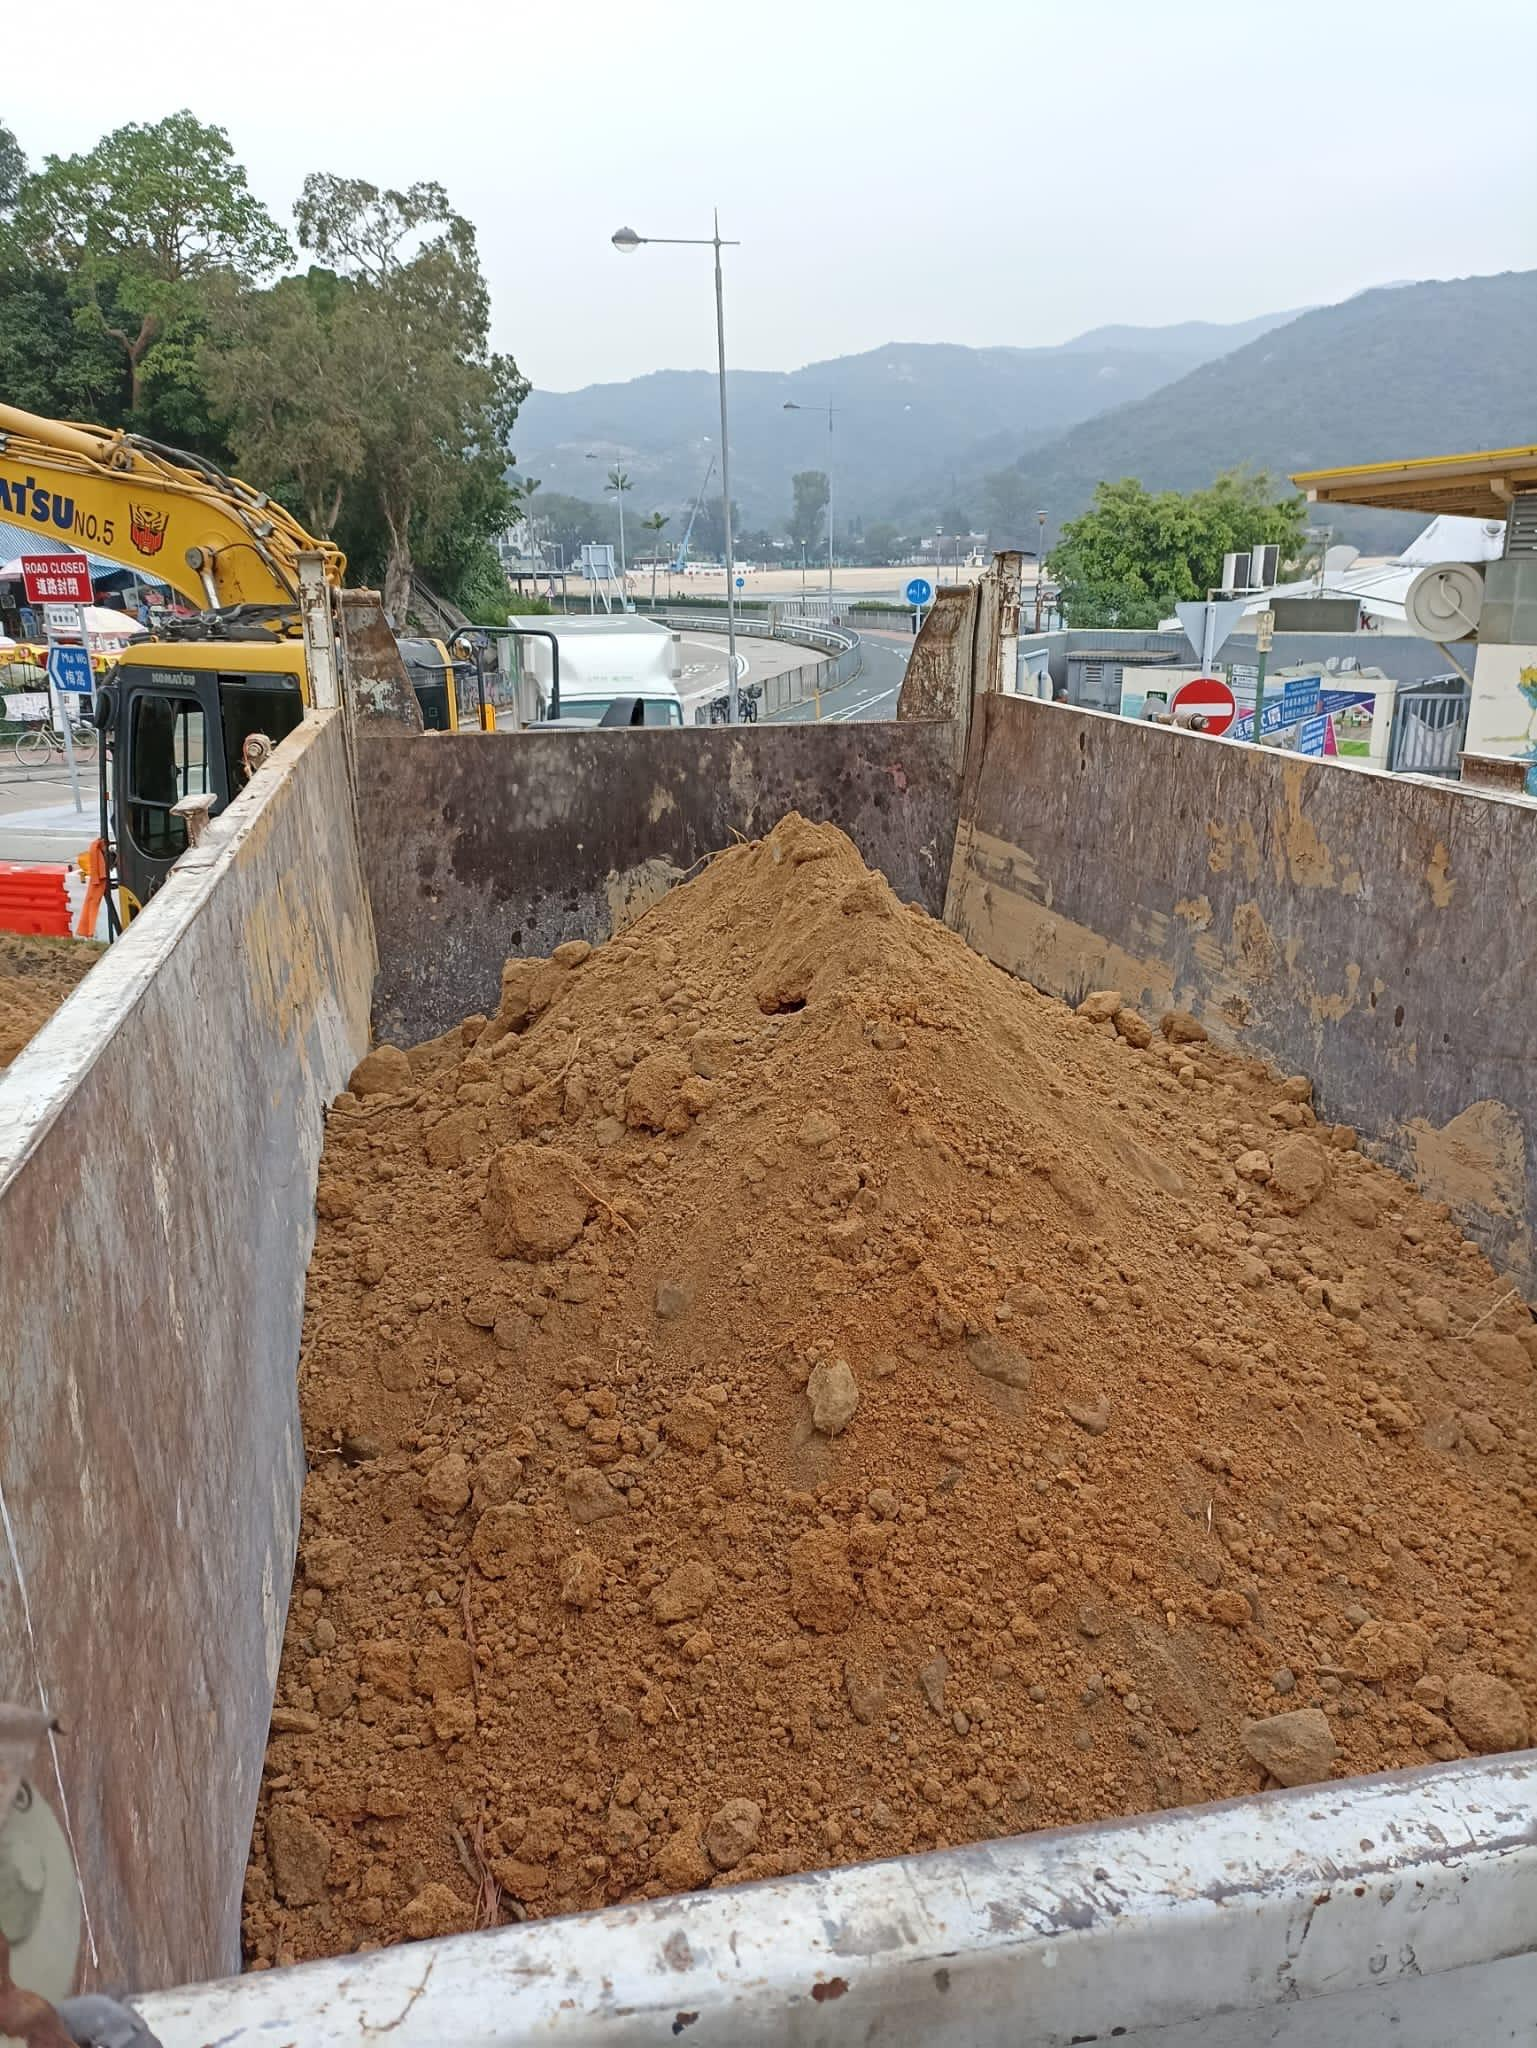dirt: (236, 805, 1535, 1971)
stone: (1239, 1705, 1336, 1785), (805, 1355, 859, 1435)
